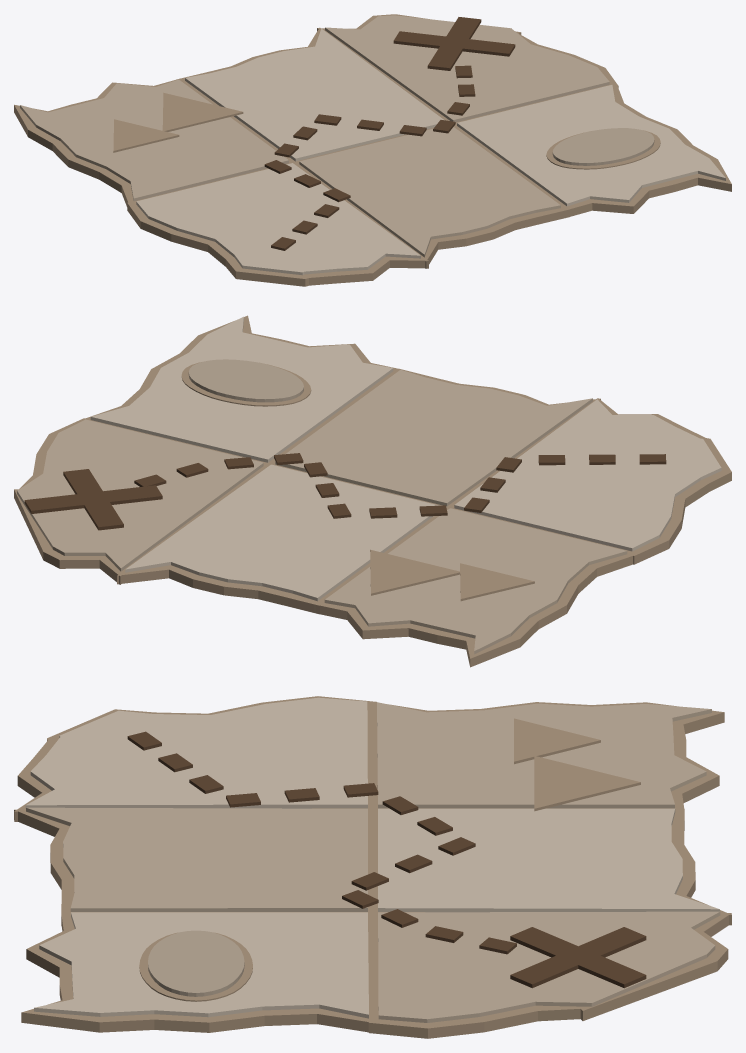
Rendered from book_mapa.fbx.
The picture shows the model from 3 angles, top to bottom: view 1: azimuth 30°, elevation 25°; view 2: azimuth 150°, elevation 25°; view 3: azimuth 270°, elevation 25°; orthographic projection. The views are drawn at different scales.
Parts seen in each view (by area): view 1: book_mapa_livro; view 2: book_mapa_livro; view 3: book_mapa_livro.
Boxes of the visible parts, x1,y1,x2,y2 form: book_mapa_livro: [14, 14, 731, 286]; book_mapa_livro: [14, 315, 731, 667]; book_mapa_livro: [14, 696, 731, 1038].
Size of the model in its own units: 2.76 by 0.08 by 2.52.
Materials: 1 (1 with a texture image).
